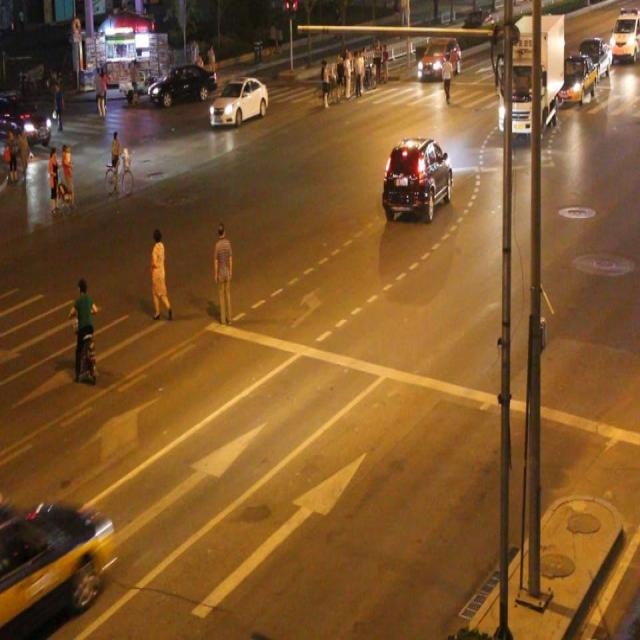bus: (494, 10, 563, 138)
car: (0, 479, 116, 640), (384, 132, 450, 216), (210, 75, 268, 130), (149, 66, 216, 102)
